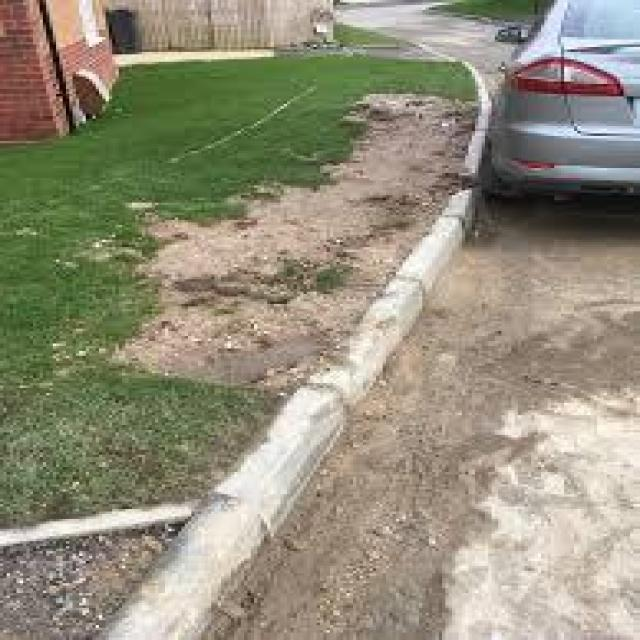curb: (88, 183, 492, 636)
